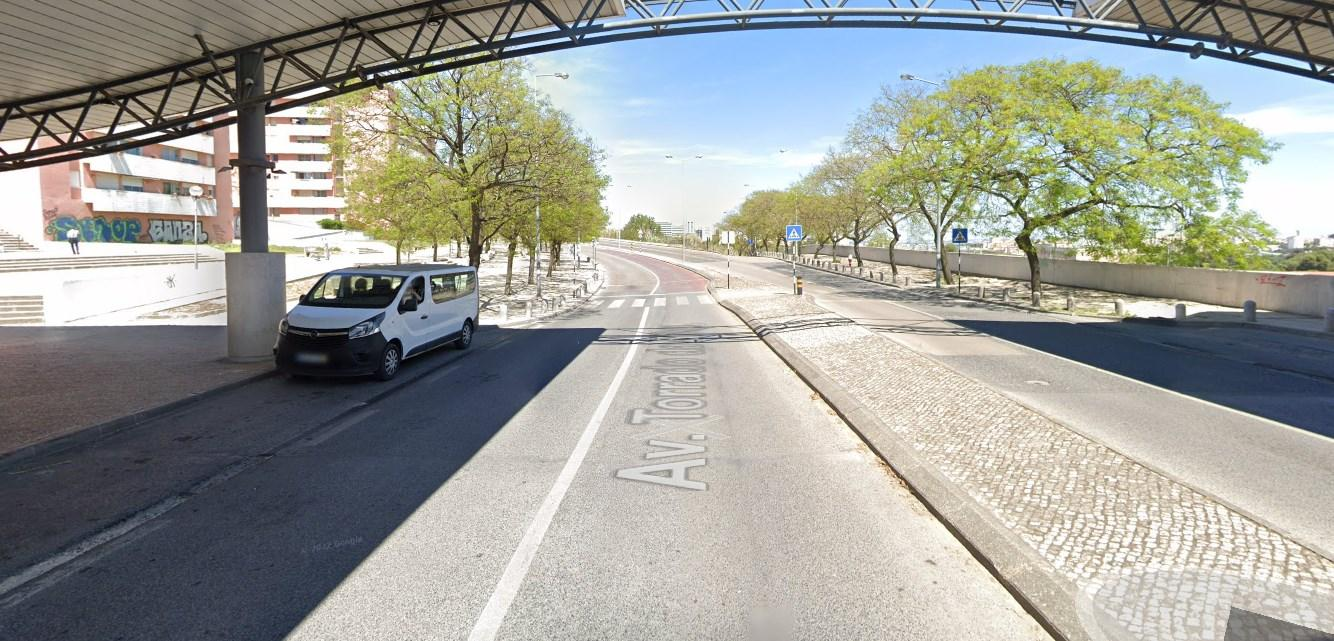vehicle: (273, 263, 479, 381)
